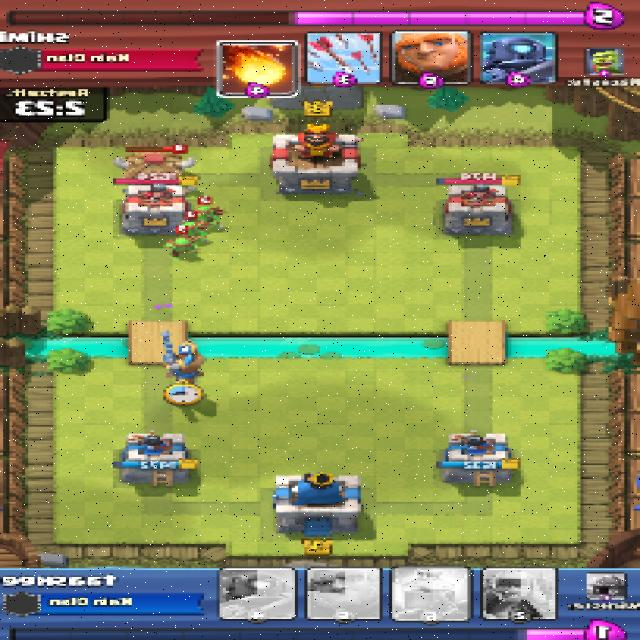Enemy-GoblinHut: (112, 151, 195, 183)
Enemy-SpearGoblin: (164, 236, 202, 259), (177, 218, 208, 241), (190, 202, 221, 225)
Player-Prince: (159, 330, 204, 386)
